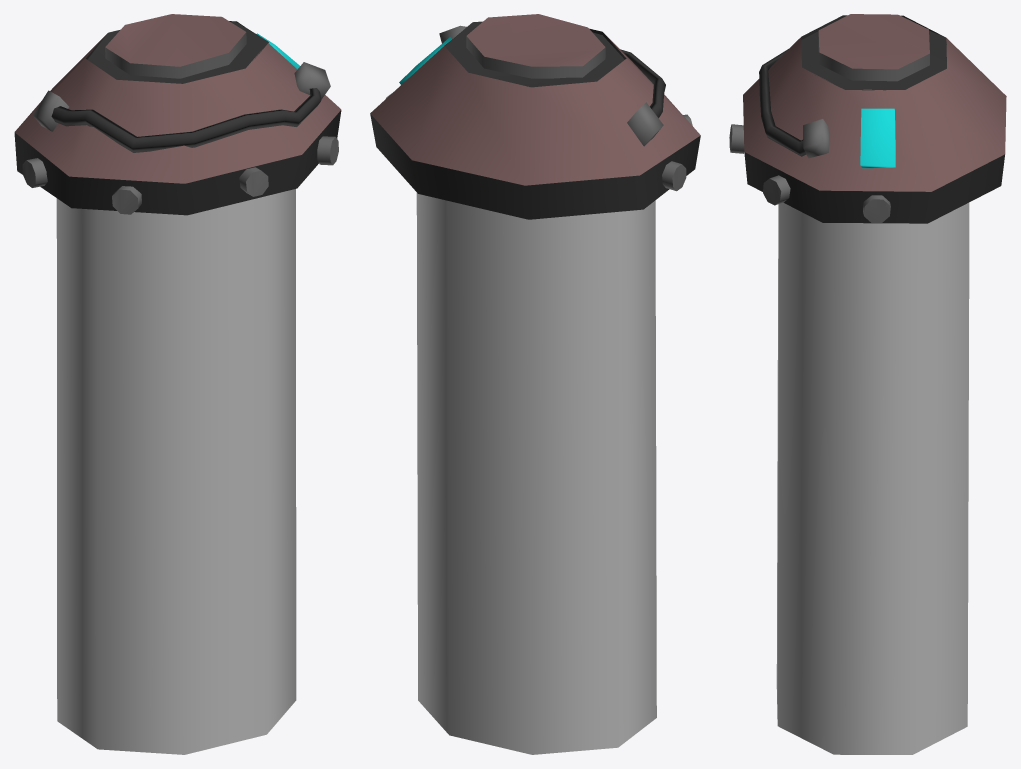
Rendered from crio up.fbx.
3 renders of one model, left to right at view 1: azimuth 30°, elevation 25°; view 2: azimuth 150°, elevation 25°; view 3: azimuth 270°, elevation 25°, orthographic.
Visible parts, largest first — view 1: PM3D_Circle3D3_245; view 2: PM3D_Circle3D3_245; view 3: PM3D_Circle3D3_245.
Boxes of the visible parts, x1,y1,x2,y2 form: PM3D_Circle3D3_245: (14, 14, 341, 754); PM3D_Circle3D3_245: (370, 14, 700, 754); PM3D_Circle3D3_245: (729, 14, 1006, 754).
Size of the model in its own units: 126 by 277 by 104.
